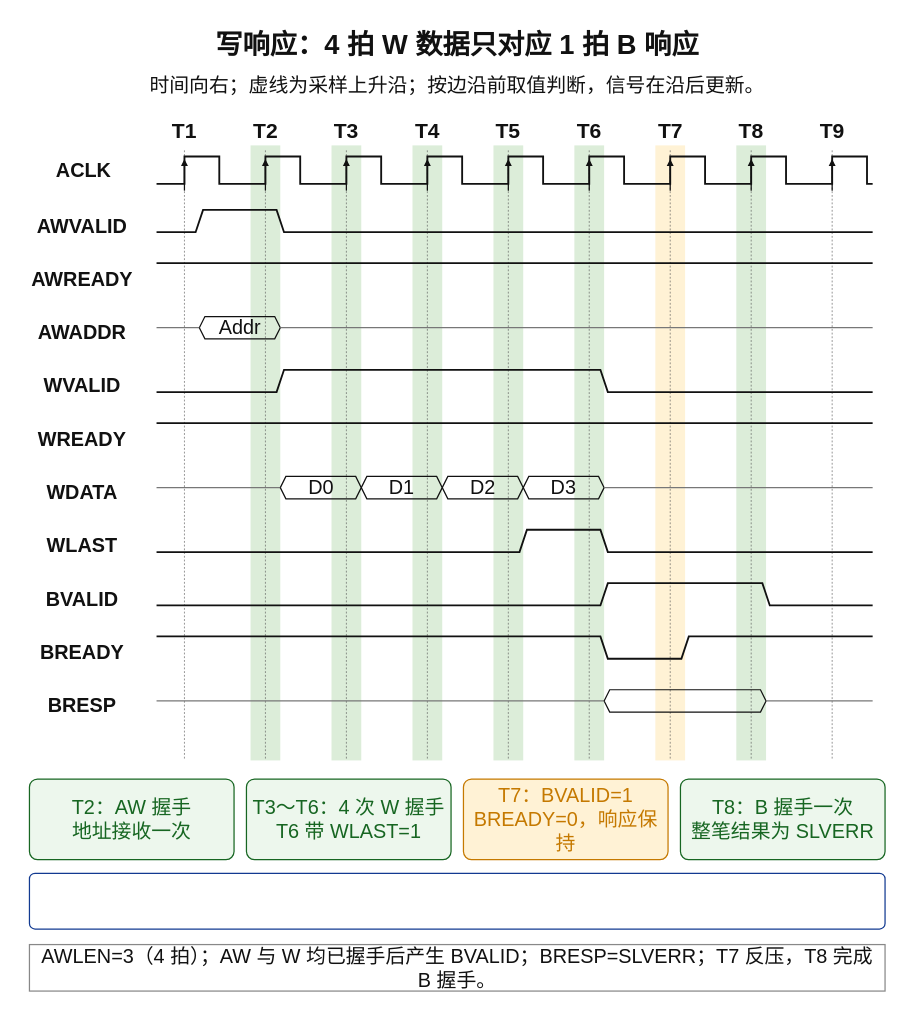
The diagram is 914 pixels wide and 1029 high, and some of its shapes have lost their labels. The shapes that lost their labels are listed below. From the top down, each one's box as (x1, y1, x2, y2) in pixels, then its label:
(655, 145, 685, 760): SLVERR
(29, 872, 885, 929): 4 拍写突发只返回 1 份 B 响应；BVALID 表示响应已准备好，BRESP 表示整笔写的结果，B 握手另行计数。
